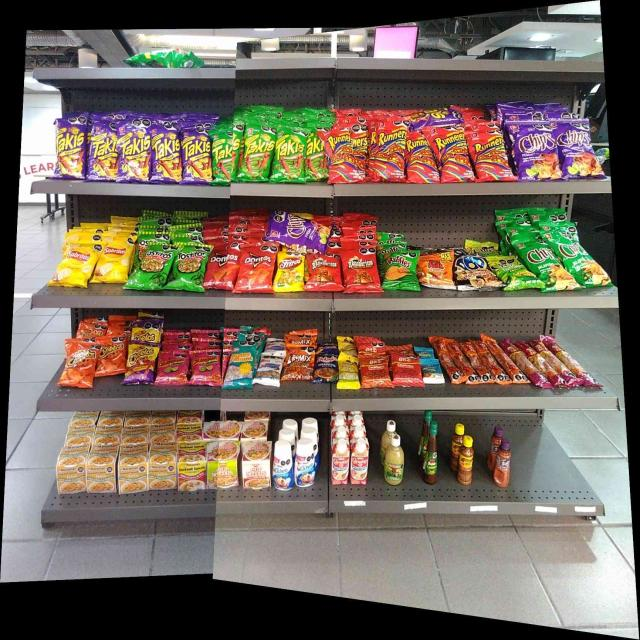bitzAlmendras: (423, 358, 442, 386)
bitzEnchilado90: (361, 353, 389, 385), (393, 355, 418, 384)
bitzEnchilado95: (445, 337, 509, 386), (514, 341, 582, 387)
bokadosCacahuates: (315, 352, 338, 382)
botaneraChilito: (458, 435, 473, 485)
cheetosFlaminHot: (129, 347, 155, 382)
cheetosOriginal: (68, 344, 93, 384), (98, 341, 125, 367)
chipsFuego: (518, 128, 556, 176), (560, 123, 590, 174), (280, 214, 323, 245)
chipsJalapeno: (558, 239, 593, 276), (524, 243, 556, 270)
chipsPapatinas: (494, 255, 523, 275)
churrumais: (160, 354, 187, 383), (192, 354, 220, 380)
delPrimoSalsa: (383, 433, 404, 486)
doritosNacho: (243, 252, 271, 286), (210, 251, 236, 284)
fritosLimon: (280, 253, 303, 289)
hotNutsOriginal: (422, 256, 451, 284)
leoCacahuates: (258, 352, 280, 385)
leoMix: (286, 347, 313, 379)
maruchanPollo: (59, 445, 88, 494), (149, 441, 176, 491), (120, 442, 147, 490), (90, 445, 117, 490)
maruchanRes: (179, 442, 206, 492)
nestleCarnation: (330, 438, 349, 485), (351, 438, 368, 487)
nestleLechera: (294, 439, 315, 486), (273, 441, 293, 488)
nissinCamaron: (208, 443, 238, 490)
nissinRes: (243, 442, 271, 489)
popKarameladas: (454, 257, 484, 287)
rancheritos: (346, 255, 374, 288), (309, 258, 338, 284)
rufflesQueso: (386, 255, 414, 285), (380, 245, 403, 254)
runners: (436, 134, 466, 177), (380, 126, 404, 176), (475, 138, 505, 176), (329, 134, 354, 178), (408, 136, 432, 178), (354, 130, 366, 177)
sabritasOriginal: (62, 249, 94, 280), (100, 243, 128, 277)
salsaBufalo: (424, 421, 438, 484)
semillasCalabaza: (339, 355, 359, 388)
semillasGirasol: (228, 344, 253, 388)
tajinDulce: (495, 439, 511, 487)
takisFuego: (56, 117, 86, 177), (120, 126, 150, 178), (151, 129, 179, 178), (92, 125, 116, 177), (184, 132, 208, 180), (411, 109, 459, 124)
takisOriginal: (248, 128, 272, 180), (280, 133, 304, 179), (212, 134, 232, 182), (307, 136, 325, 176)
tostitos: (178, 250, 205, 284), (142, 250, 166, 284)
